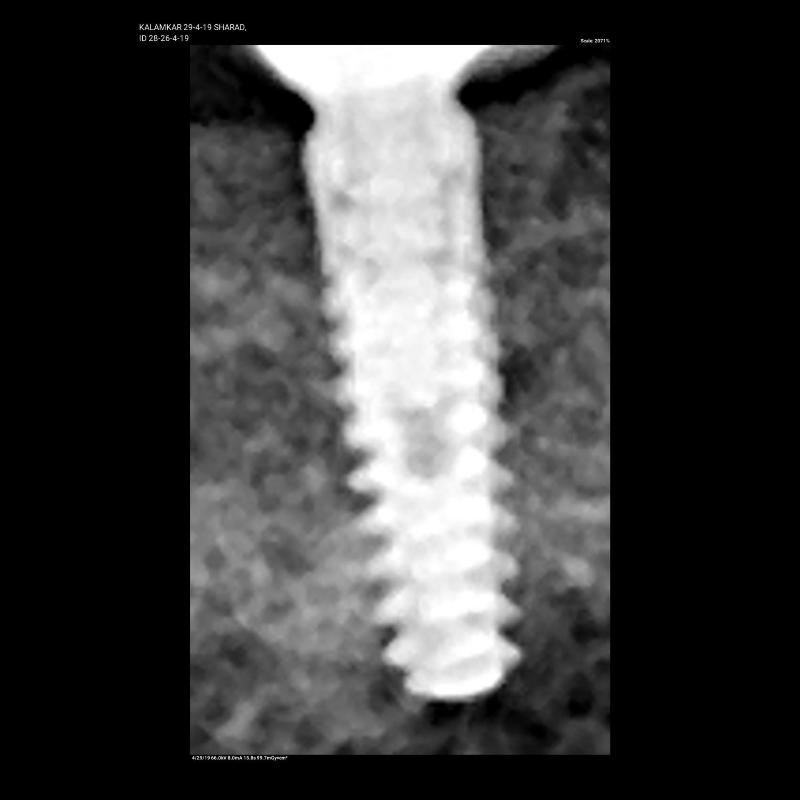osstem: (268, 111, 560, 695)
